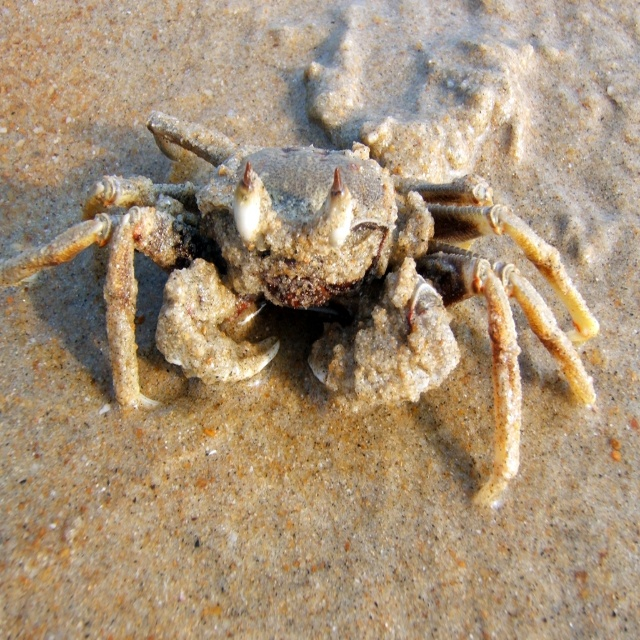Crab: (0, 112, 600, 506)
